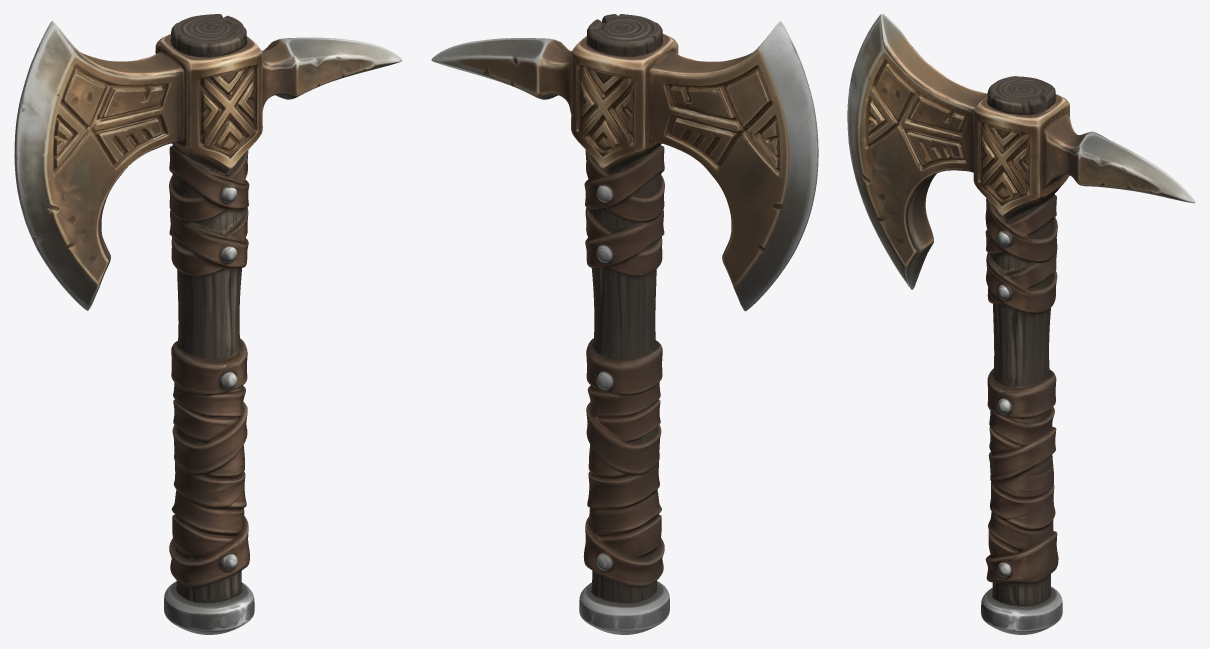
The model's file is 1h_axe.glb.
The picture shows the model from 3 angles, left to right: view 1: azimuth 30°, elevation 25°; view 2: azimuth 150°, elevation 25°; view 3: azimuth 330°, elevation 25°; orthographic projection. The views are drawn at different scales.
Bounding box in the file's own units: 1.19 × 1.9 × 0.243.
Materials: 1 (1 with a texture image).
